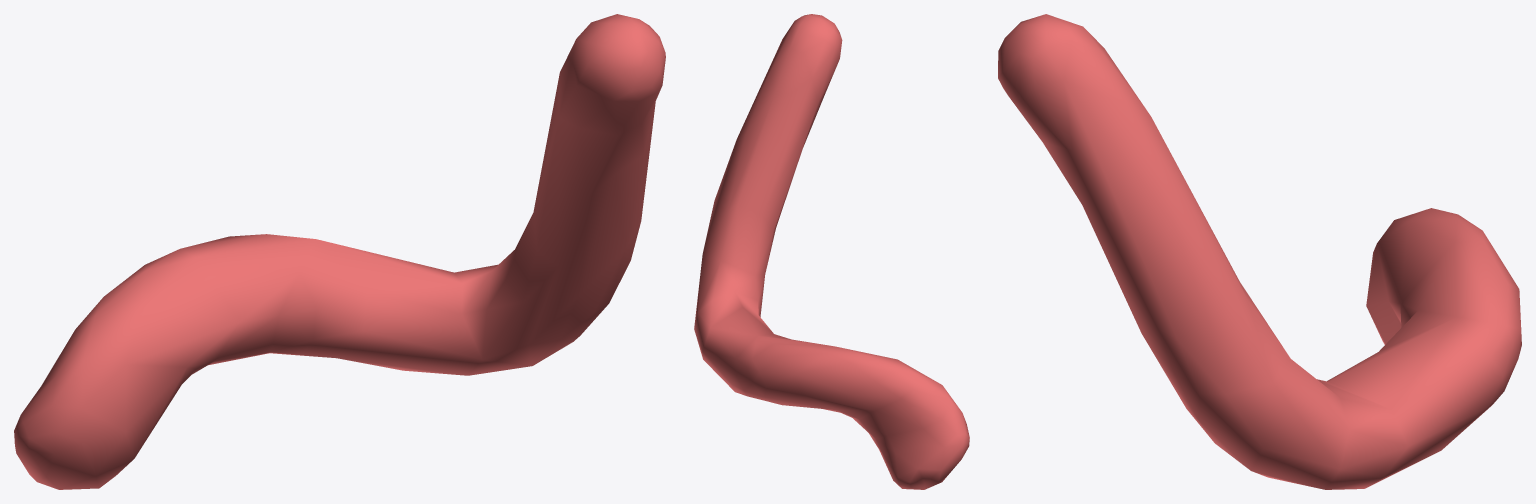
The model's file is Anterior_cerebral_artery.r_grp1.1723.glb.
3 renders of one model, left to right at view 1: azimuth 30°, elevation 25°; view 2: azimuth 150°, elevation 25°; view 3: azimuth 270°, elevation 25°, orthographic. The views are drawn at different scales.
Visible parts, largest first — view 1: Anterior_cerebral_artery.r_grp1.1723; view 2: Anterior_cerebral_artery.r_grp1.1723; view 3: Anterior_cerebral_artery.r_grp1.1723.
Boxes of the visible parts, x1=… form: Anterior_cerebral_artery.r_grp1.1723: x1=14, y1=14, x2=665, y2=489; Anterior_cerebral_artery.r_grp1.1723: x1=694, y1=14, x2=969, y2=489; Anterior_cerebral_artery.r_grp1.1723: x1=998, y1=14, x2=1521, y2=489.
Bounding box in the file's own units: 0.0139 × 0.0137 × 0.0118.
